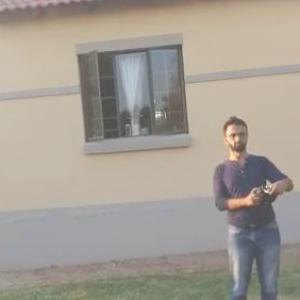follow: (207, 105, 296, 299)
